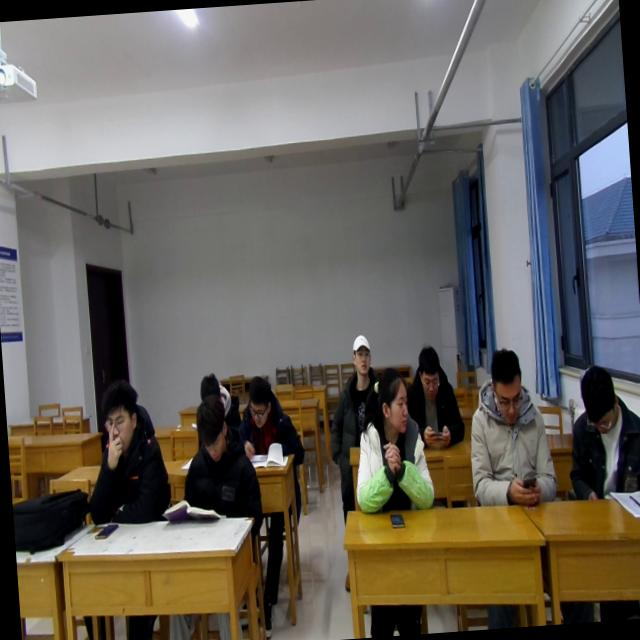down: (94, 371, 143, 450), (574, 358, 622, 437), (486, 342, 530, 428), (191, 392, 232, 464), (242, 370, 275, 431), (414, 342, 444, 398), (194, 366, 221, 410)
lookup: (346, 326, 374, 380)
sit: (466, 338, 561, 512), (80, 375, 174, 528), (346, 368, 436, 524), (174, 394, 264, 526), (562, 356, 640, 502), (236, 371, 305, 470), (405, 344, 468, 448), (327, 331, 382, 438), (190, 365, 242, 442)
